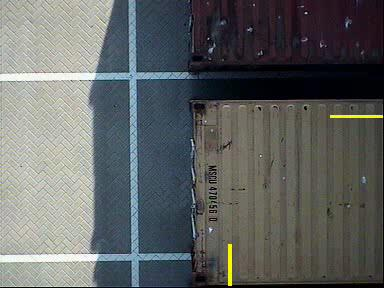groundmarker_2: (144, 51, 196, 89), (143, 197, 195, 235)
